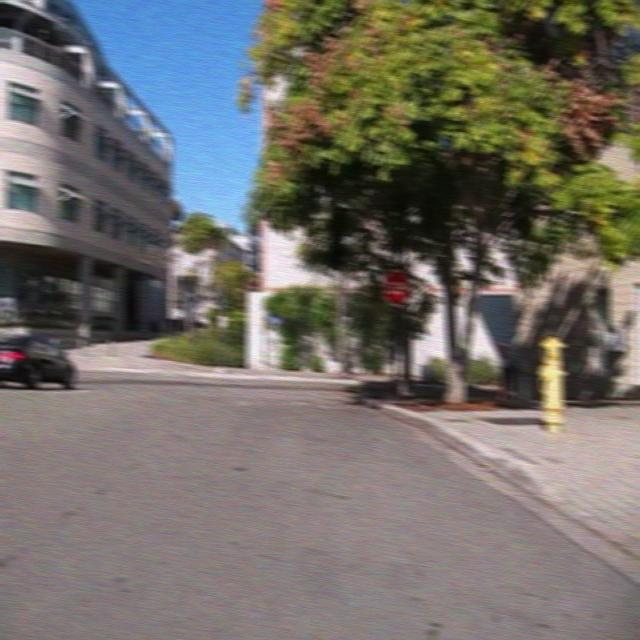stop_sign: (381, 267, 411, 305)
